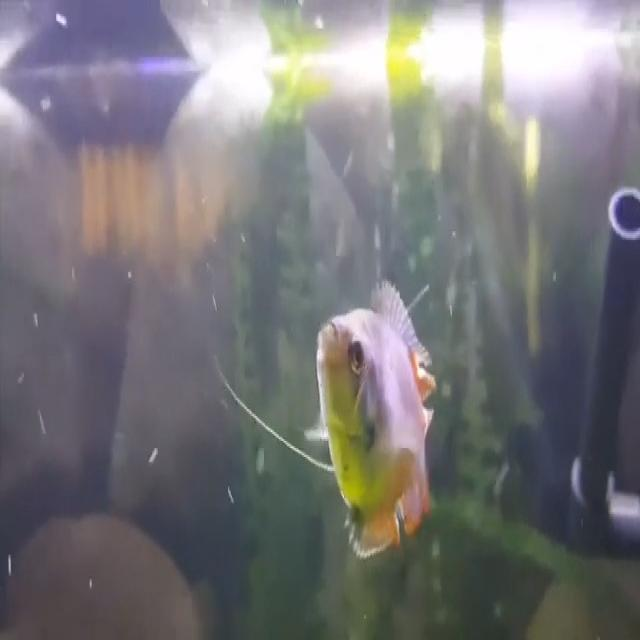fish: (314, 275, 440, 563)
